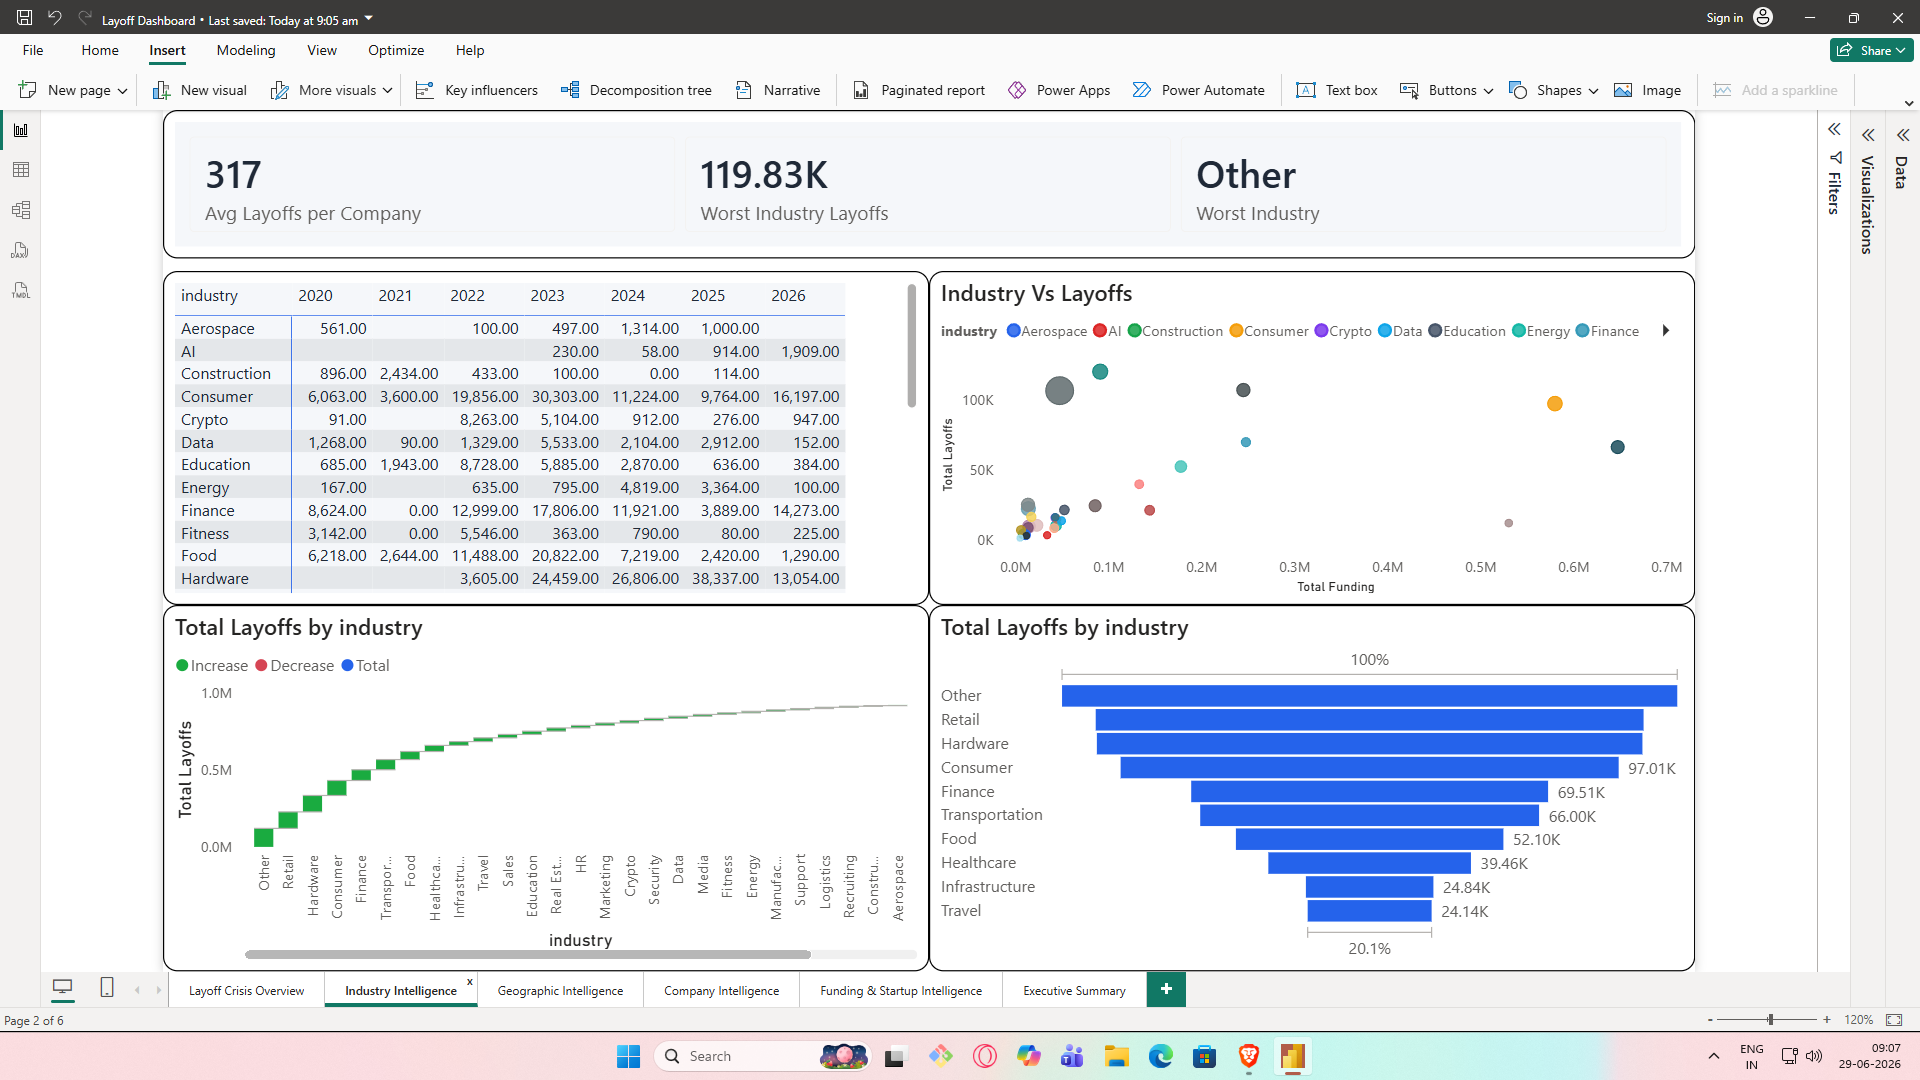

This screenshot's page, from the dashboard's own definition file:
{"tool":"powerbi","page":{"name":"Industry Intelligence","canvas":[1280,720],"ordinal":1},"visuals":[{"type":"cardVisual","fields":{"Data":["layoffs.Avg Layoffs per Company","layoffs.Worst Industry Layoffs","layoffs.Worst Industry"]},"box":[0,0,1280,124.5],"z":0},{"type":"pivotTable","fields":{"Rows":["layoffs.industry"],"Columns":["layoffs.Year"],"Values":["layoffs.Total Layoffs"]},"box":[0,134.2,640,279.1],"z":1000},{"type":"waterfallChart","fields":{"Category":["layoffs.industry"],"Y":["layoffs.Total Layoffs"]},"box":[0,413.4,640,306.4],"z":2000},{"type":"scatterChart","title":"Industry Vs Layoffs","fields":{"X":["layoffs.Total Funding"],"Y":["layoffs.Total Layoffs"],"Size":["layoffs.Avg Layoffs per Company"],"Series":["layoffs.industry"]},"box":[640,134.2,640,279.1],"z":3000},{"type":"funnel","fields":{"Category":["layoffs.industry"],"Y":["layoffs.Total Layoffs"]},"box":[640,413.4,640,306.4],"z":4000}]}

Visuals, with their boxes on the page's 1280x720 design canvas (x1, y1, x2, y2). These are canvas units, not pixel positions in the 1920x1080 screenshot, which may show the page scaled, cropped or inside an application window:
cardVisual - layoffs.Avg Layoffs per Company x layoffs.Worst Industry Layoffs: pyautogui.locateOnScreen(0, 0, 1280, 124)
pivotTable - layoffs.industry x layoffs.Year: pyautogui.locateOnScreen(0, 134, 640, 413)
waterfallChart - layoffs.industry x layoffs.Total Layoffs: pyautogui.locateOnScreen(0, 413, 640, 720)
"Industry Vs Layoffs" scatterChart: pyautogui.locateOnScreen(640, 134, 1280, 413)
funnel - layoffs.industry x layoffs.Total Layoffs: pyautogui.locateOnScreen(640, 413, 1280, 720)
